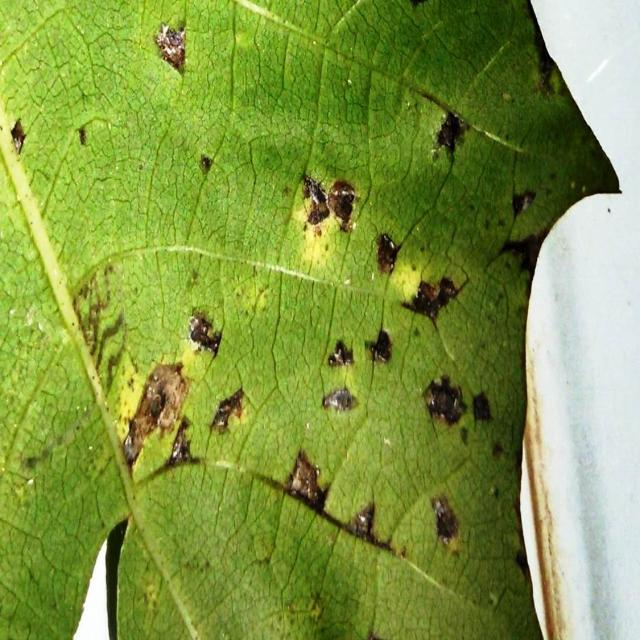Bacterial Blight: (122, 88, 507, 550)
